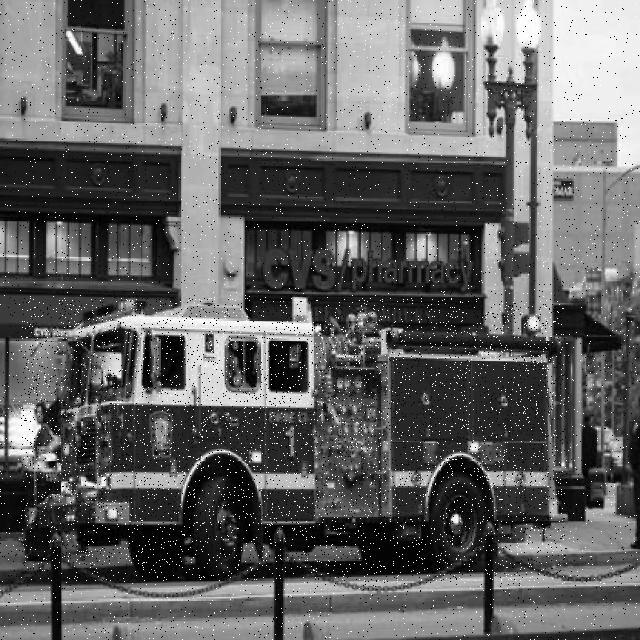Fire Truck: (21, 298, 565, 581)
